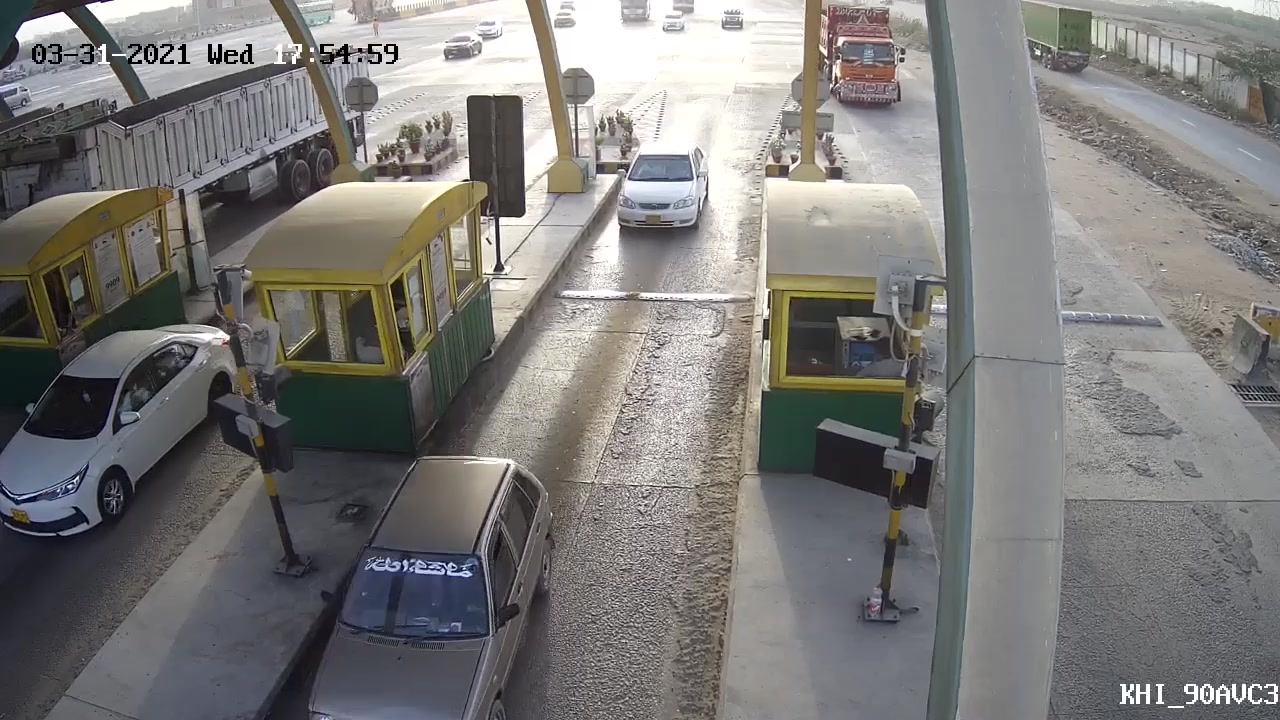F1: (605, 135, 718, 241)
